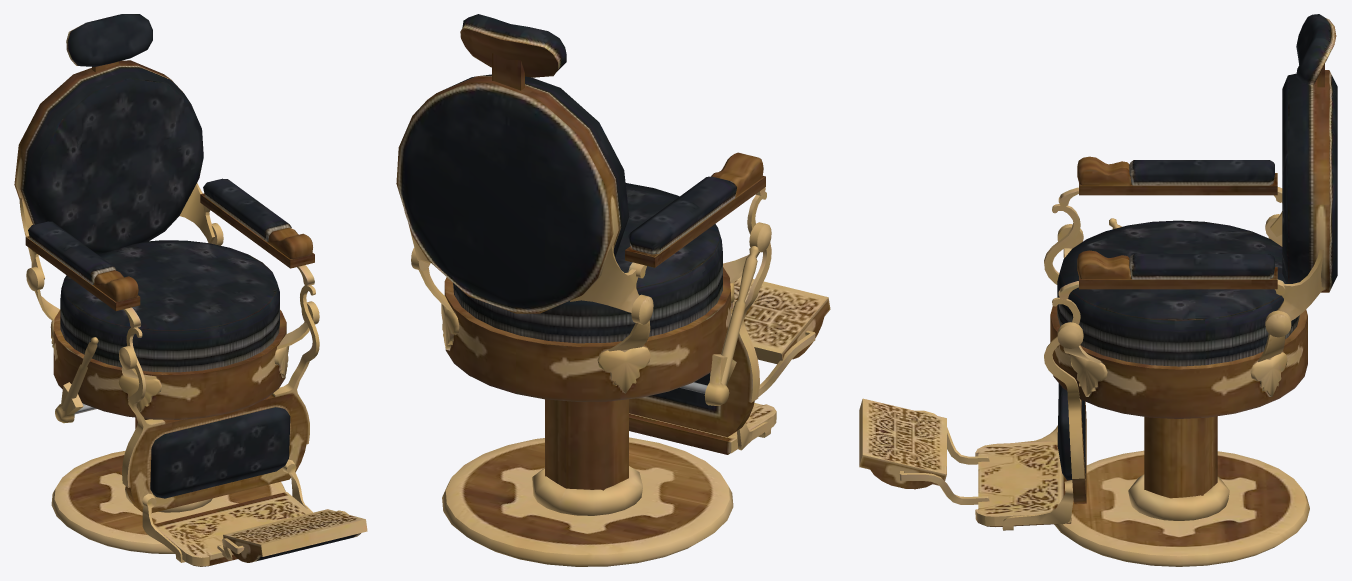
File: BarberShopChair_01.glb
3 renders of one model, left to right at view 1: azimuth 30°, elevation 25°; view 2: azimuth 150°, elevation 25°; view 3: azimuth 270°, elevation 25°, orthographic. The views are drawn at different scales.
Parts seen in each view (by area): view 1: BarberShopChair_01; view 2: BarberShopChair_01; view 3: BarberShopChair_01.
Part boxes in pixels (bbox=[...]): BarberShopChair_01: bbox=[14, 14, 367, 566]; BarberShopChair_01: bbox=[396, 14, 830, 566]; BarberShopChair_01: bbox=[859, 14, 1337, 566].
Bounding box in the file's own units: 0.7566 × 1.49 × 1.33.
Materials: 1 (1 with a texture image).
